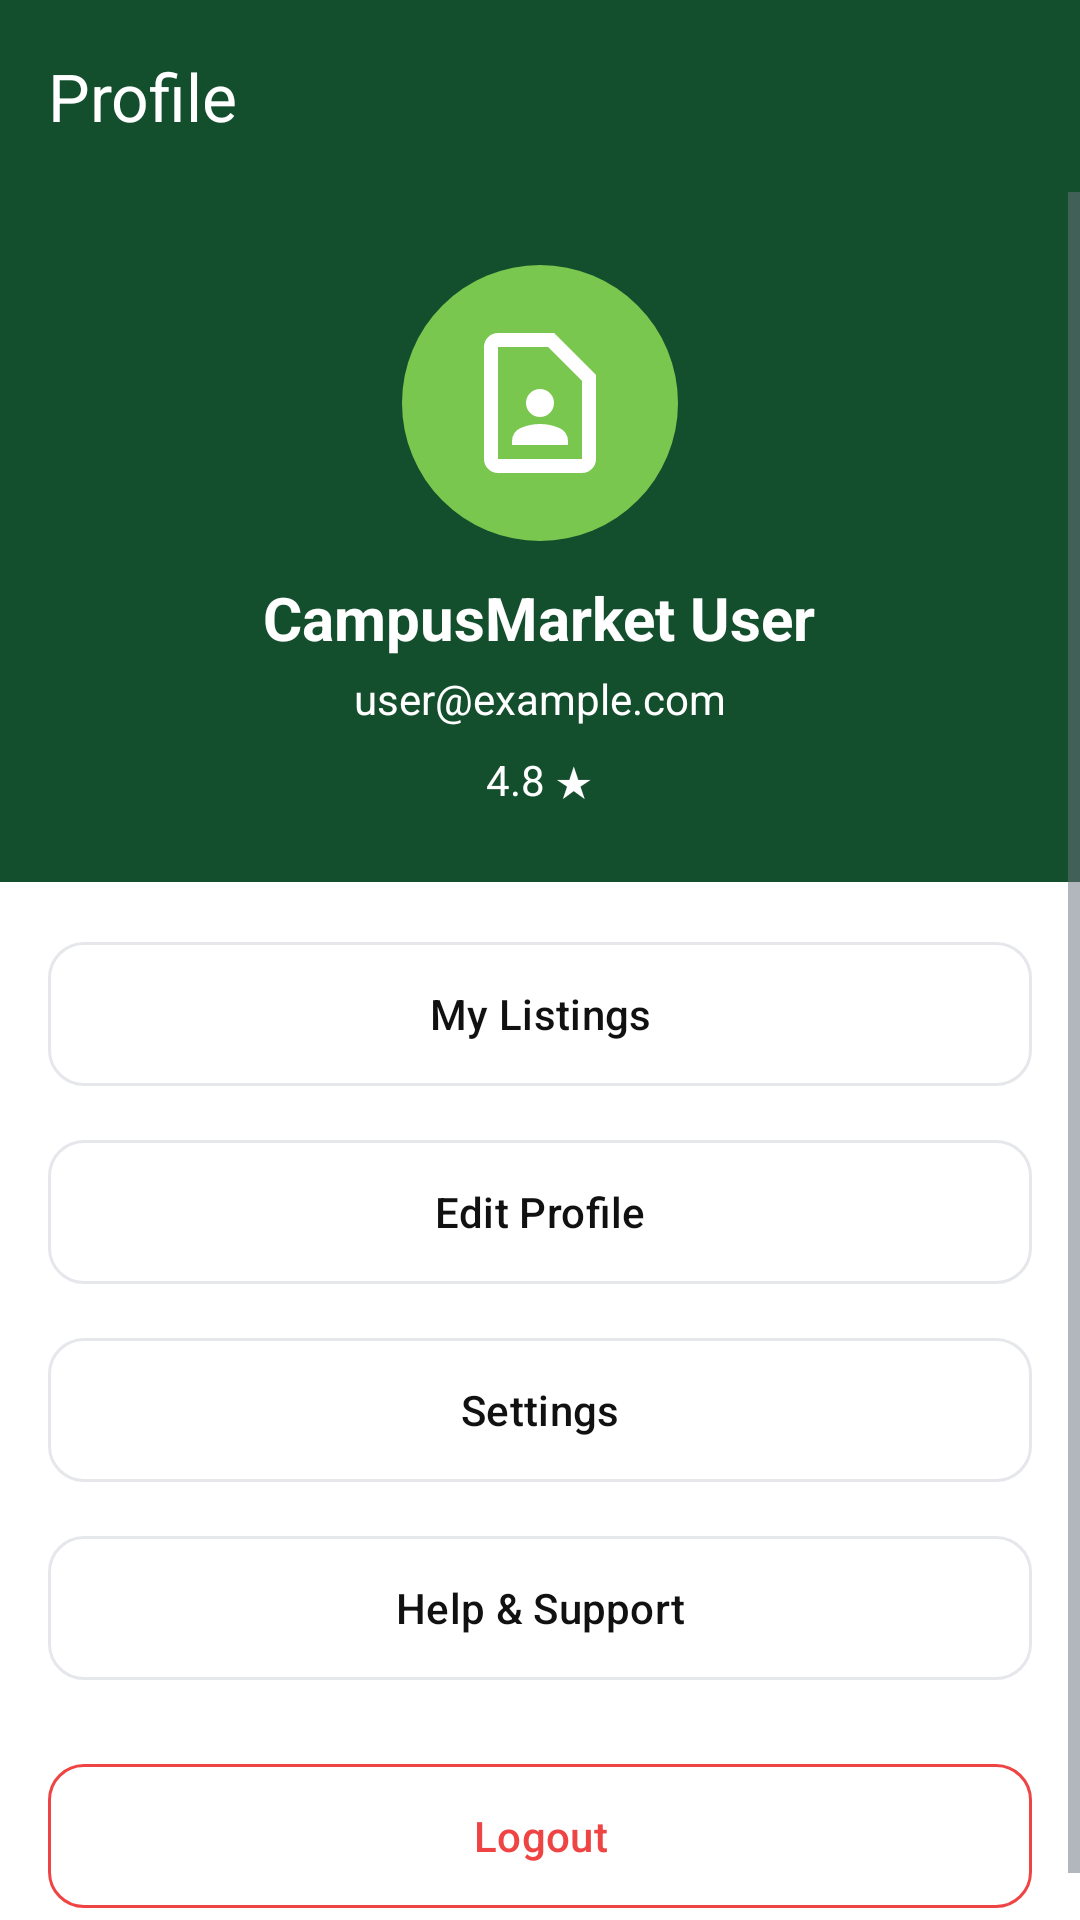

Point at icon controls on the screen. Image size 1080*1920, points as point (x, y).
Profile picture: point (540, 403)
